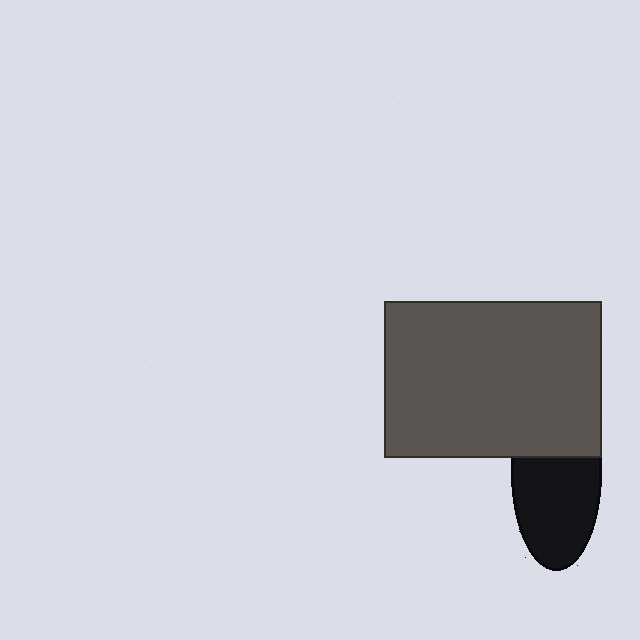concrete_damage: (384, 301, 601, 457)
pothole: (511, 373, 601, 570)
